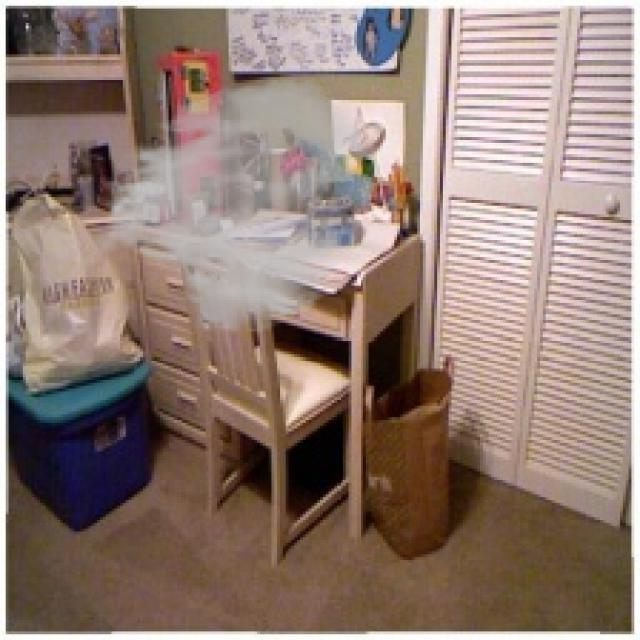Smoke: (88, 74, 372, 337)
